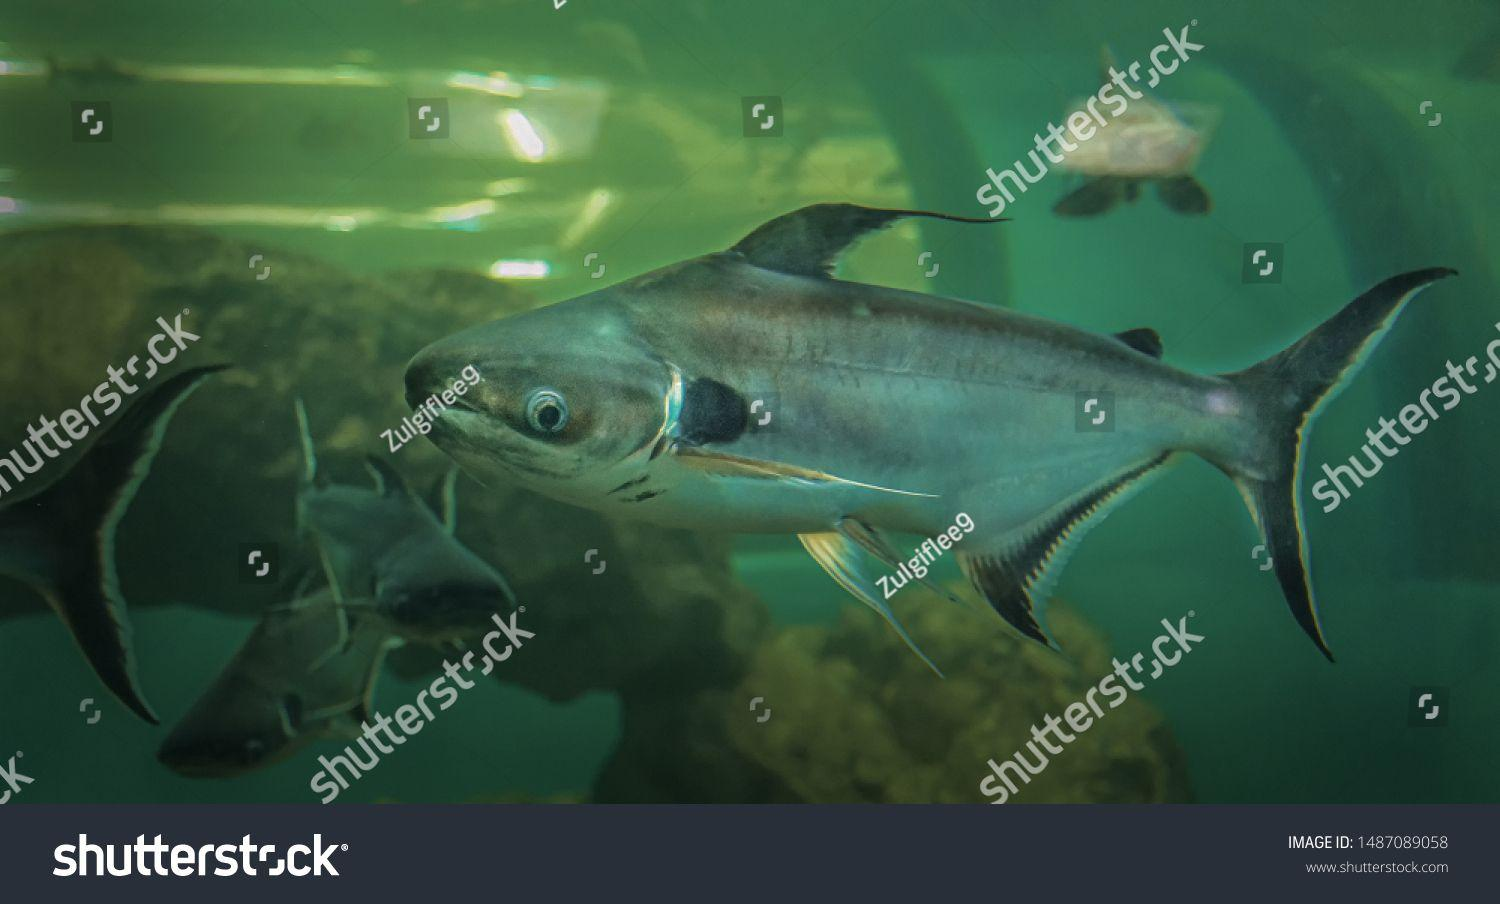Pangasius: (401, 200, 1471, 665)
